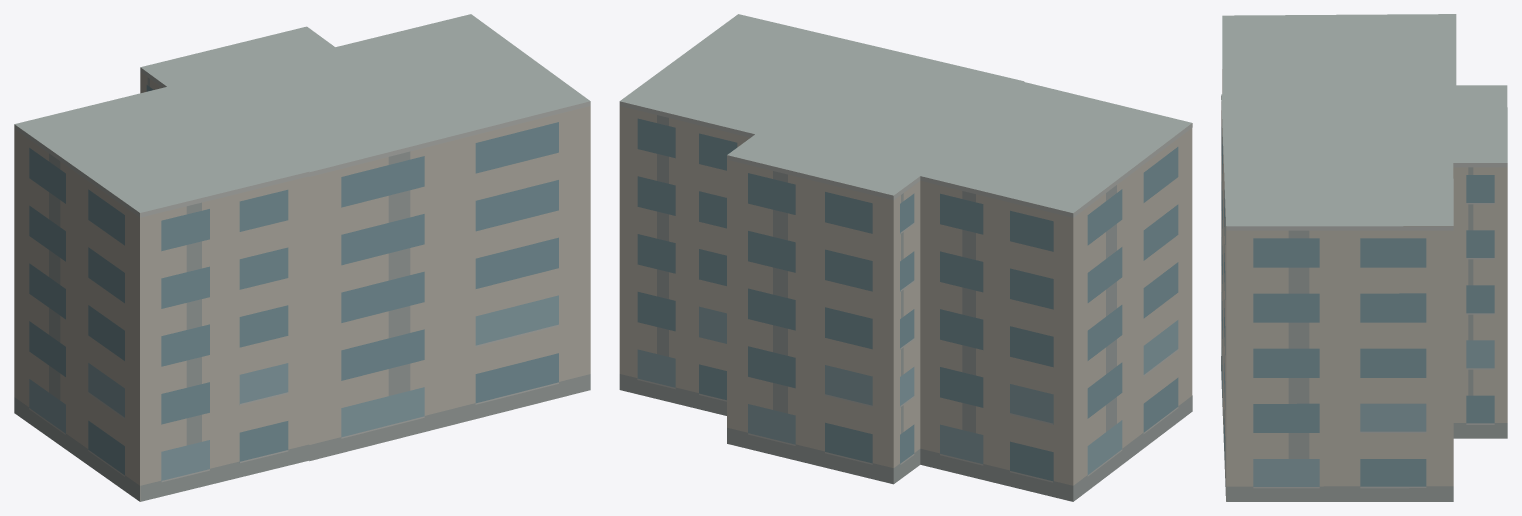
File: survey-upis-32767991.glb
3 renders of one model, left to right at view 1: azimuth 30°, elevation 25°; view 2: azimuth 150°, elevation 25°; view 3: azimuth 270°, elevation 25°, orthographic. The views are drawn at different scales.
Visible parts, largest first — view 1: survey-upis-32767991.tmp; view 2: survey-upis-32767991.tmp; view 3: survey-upis-32767991.tmp.
Part boxes in pixels (x1,y1,x2,y2): survey-upis-32767991.tmp: [14, 14, 590, 501]; survey-upis-32767991.tmp: [619, 14, 1192, 501]; survey-upis-32767991.tmp: [1221, 14, 1507, 501].
Size of the model in its own units: 25.11 by 15.2 by 14.33.
